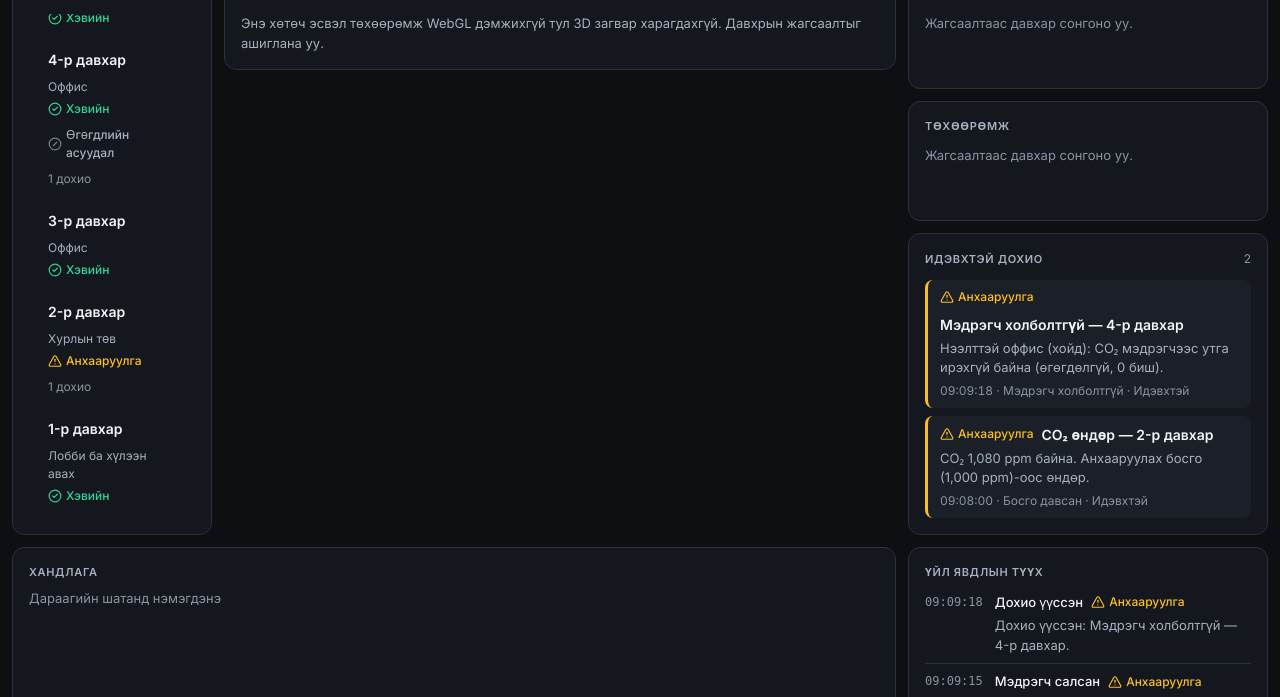
Dashboard — жишээ snapshot-оор › өөр давхар сонгоход дэлгэрэнгүй шинэчлэгдэнэ
(page scrolled)
Click the option "2-р давхар Хурлын төв Анхааруулга 1 дохио" at (95, 348), box [48,303,142,394]
(page scrolled)
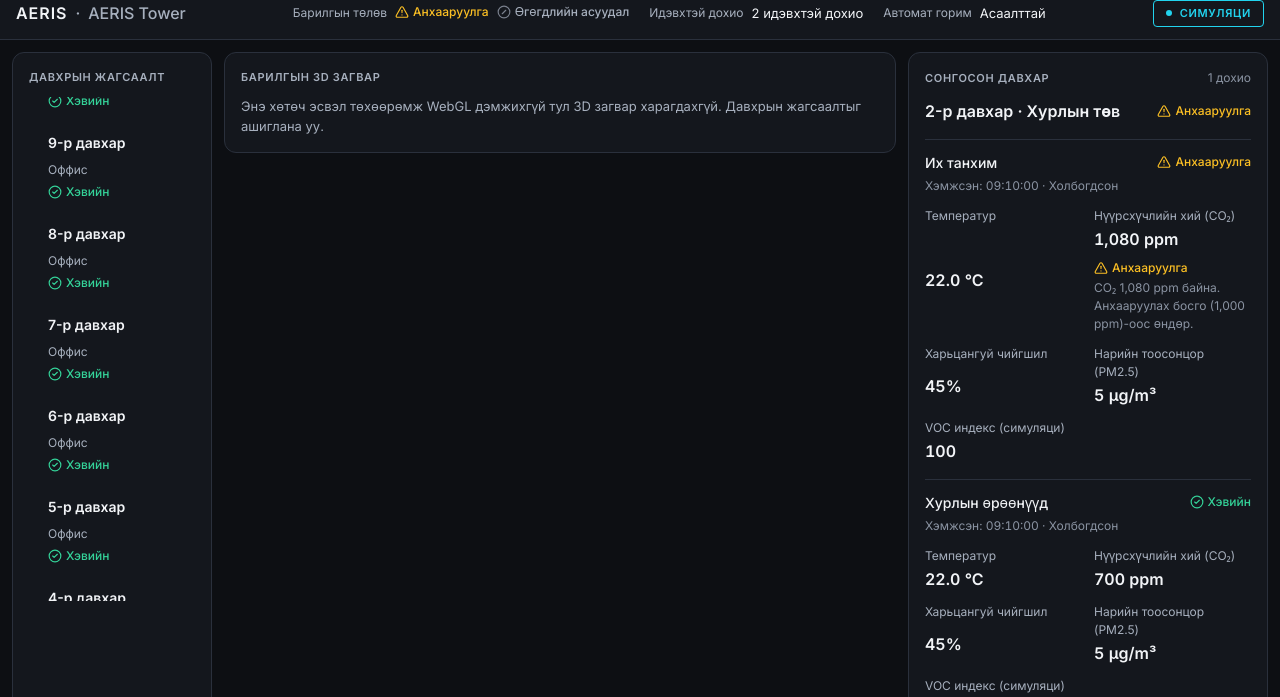
Click the option "7-р давхар Оффис Хэвийн" at (86, 348), box [48,316,125,381]
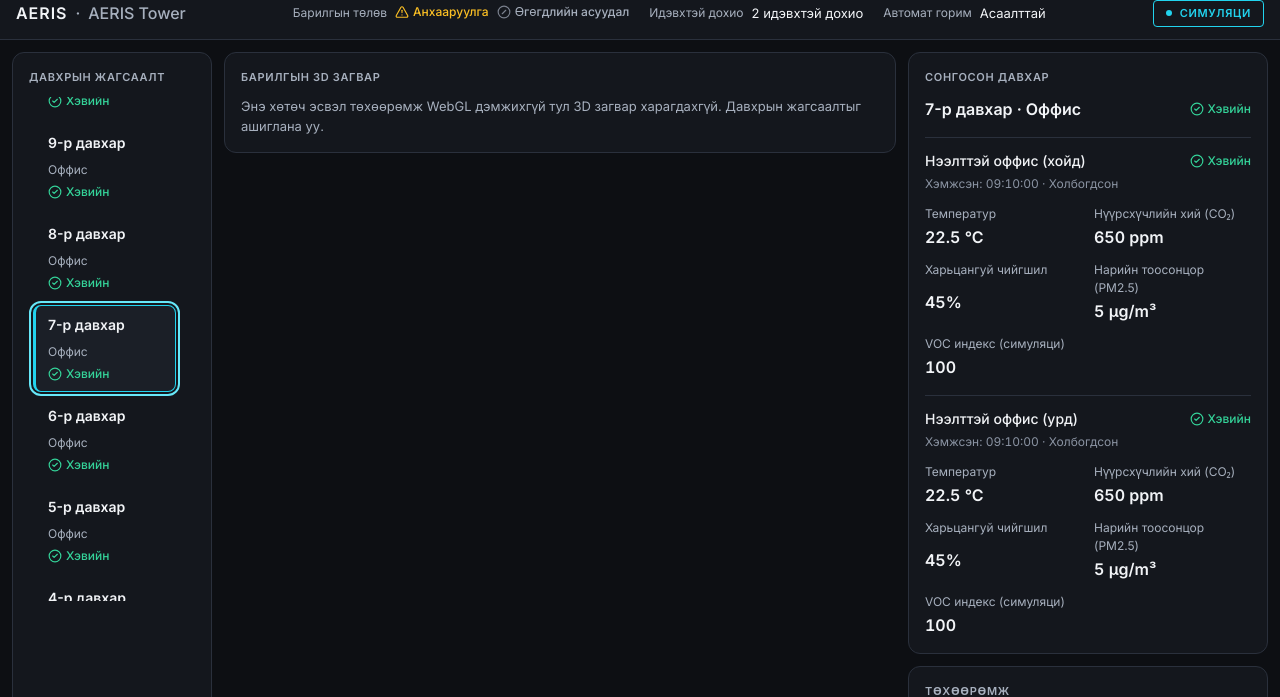
Expected: the heading "7-р давхар · Оффис" is shown, [925,97,1081,121]
